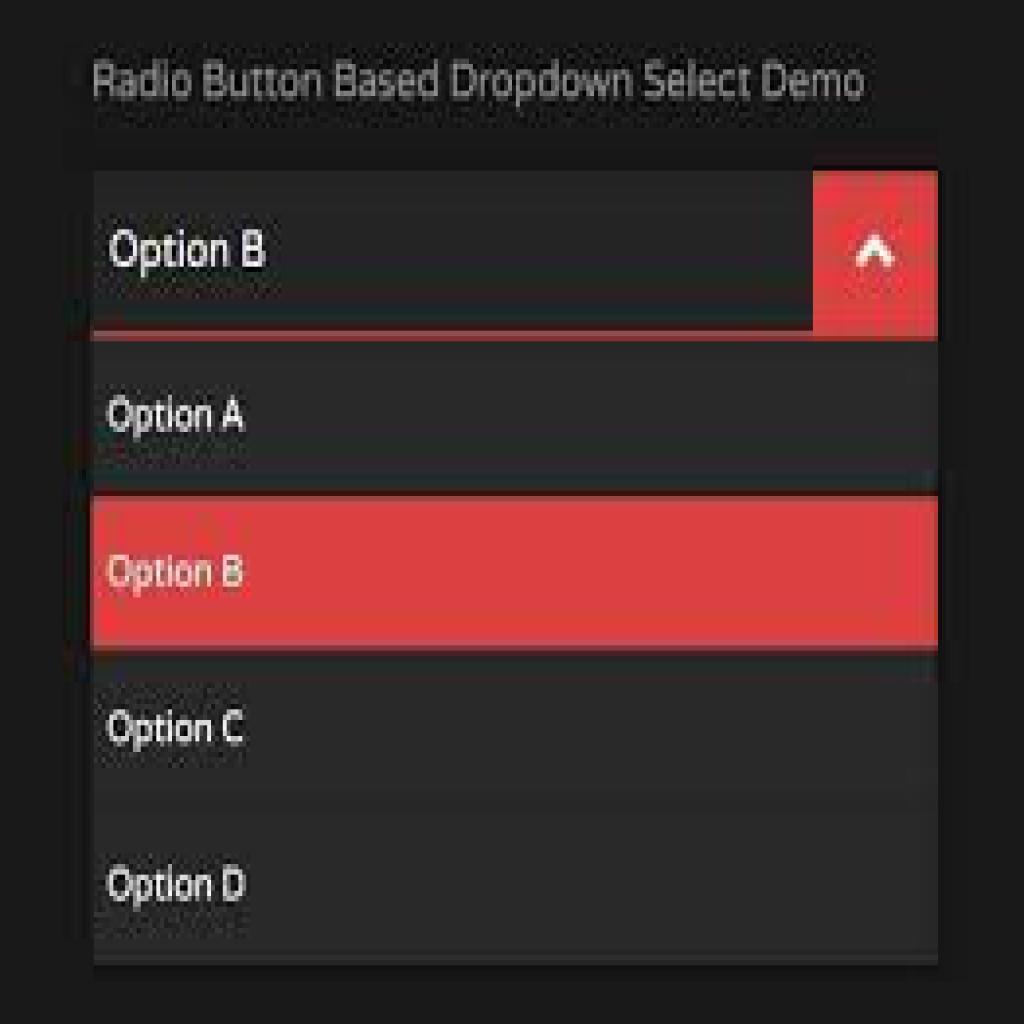button: (94, 497, 940, 649)
dropdown: (91, 175, 938, 340)
label: (102, 700, 250, 757), (101, 861, 251, 914), (102, 390, 246, 444)
